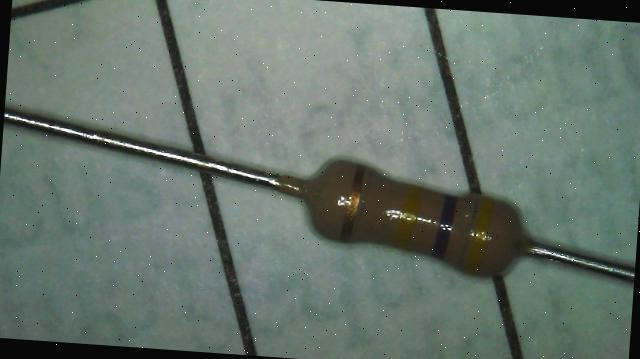gold: (340, 162, 365, 241)
resistor: (262, 114, 563, 299)
violet: (432, 194, 457, 258)
yellow: (463, 194, 495, 274), (395, 184, 423, 249)
